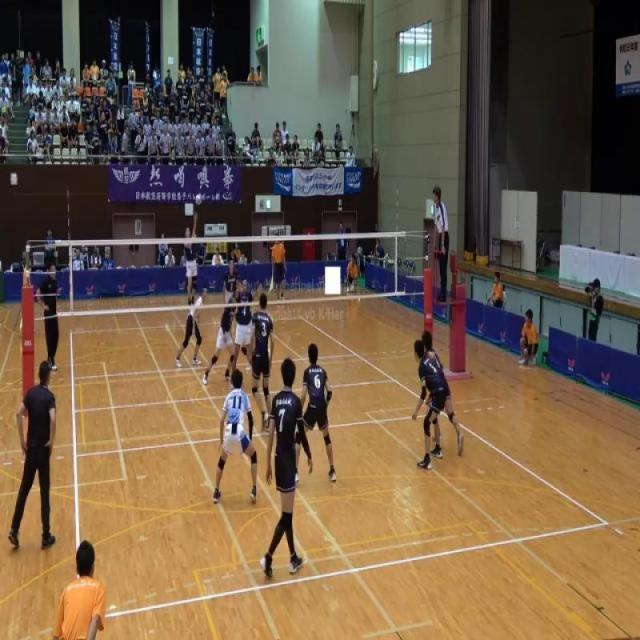volleyball: (195, 192, 202, 205), (350, 284, 355, 292)
